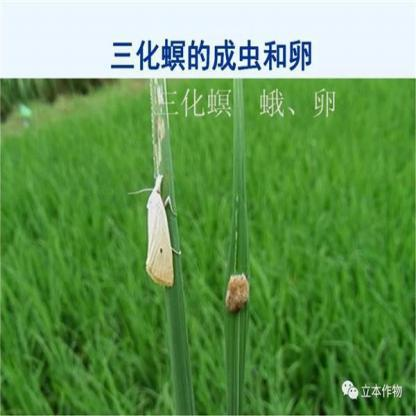stem-borer: (142, 170, 180, 290)
